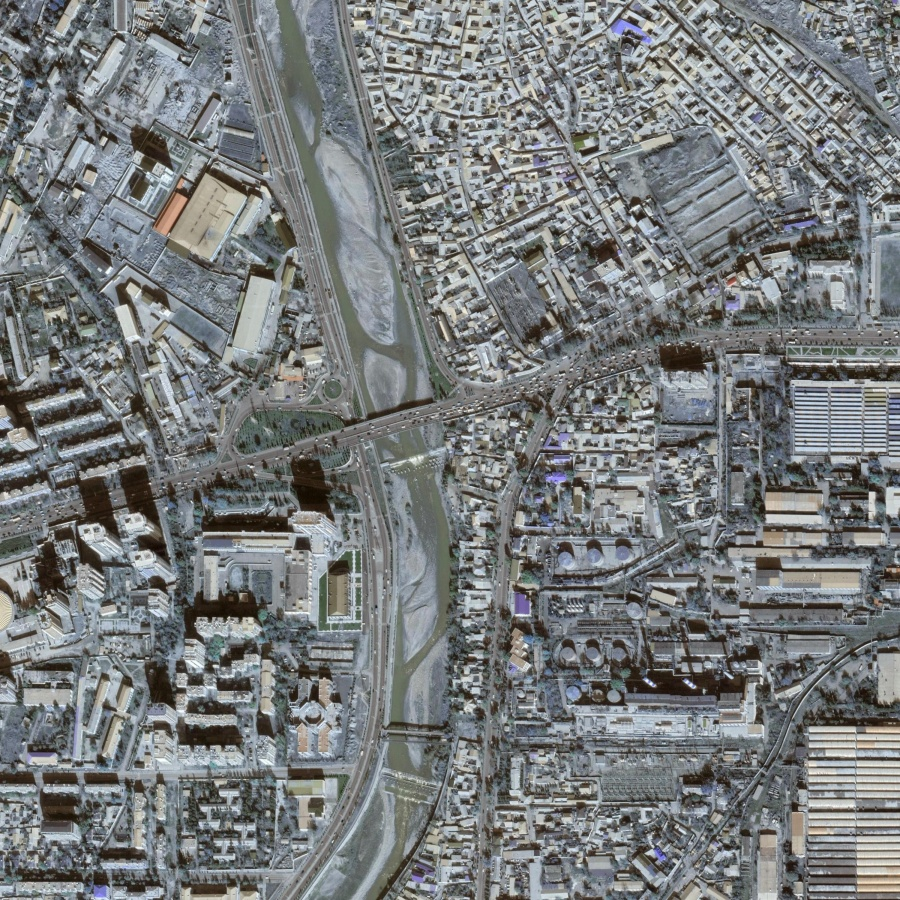PowerPlant: (548, 592, 769, 803)
